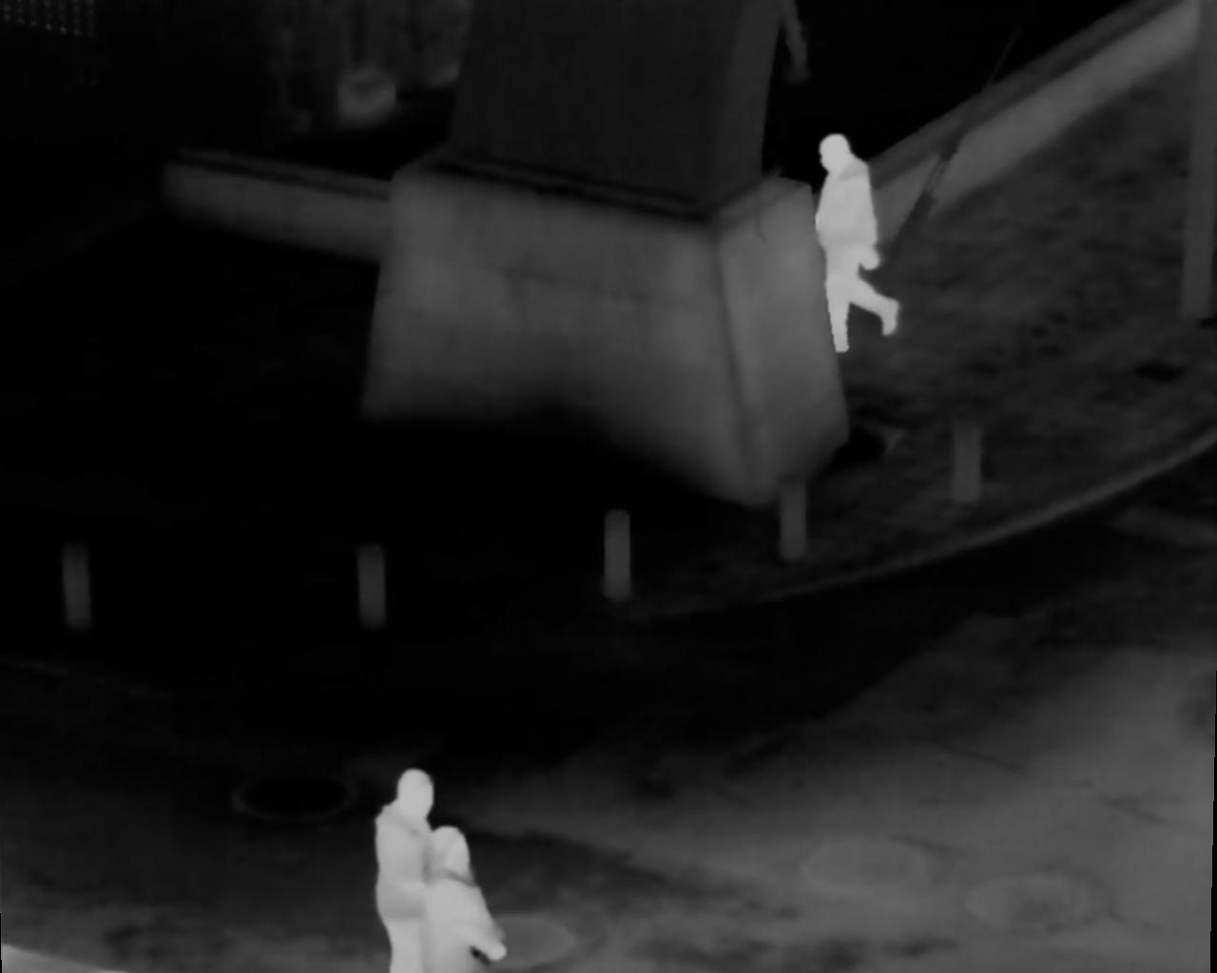person: (805, 130, 898, 353), (413, 814, 503, 973), (377, 754, 426, 973)
